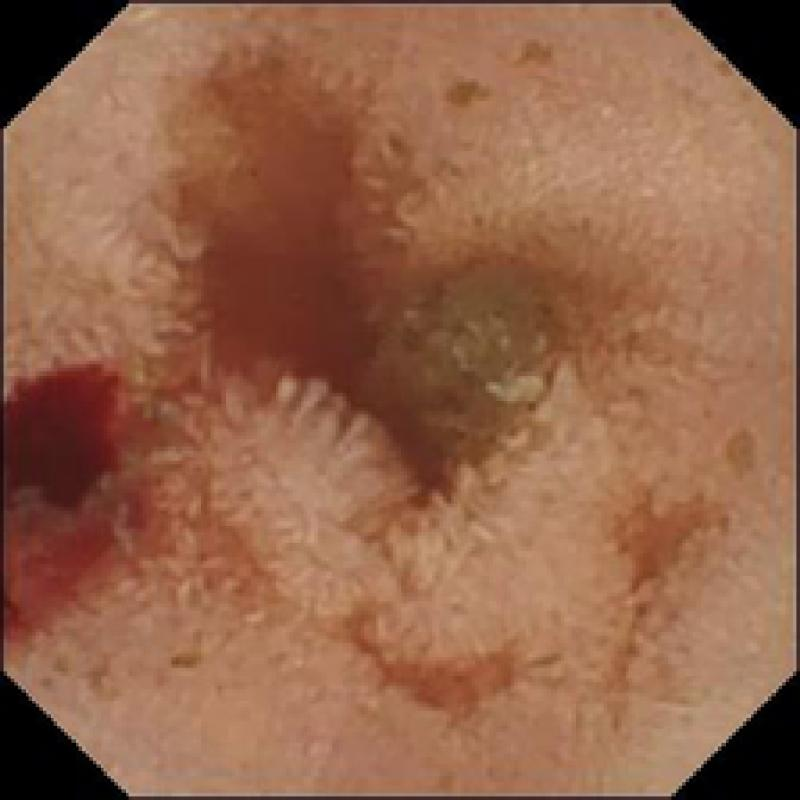bleeding: (0, 347, 129, 607)
